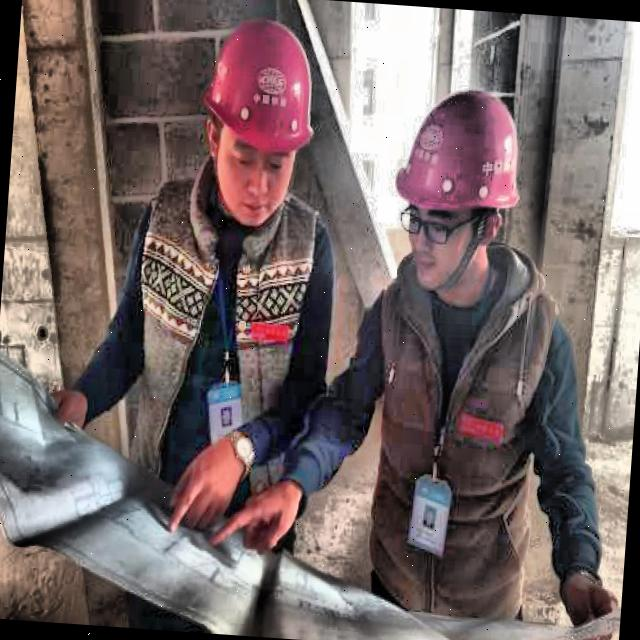helmet: (378, 63, 536, 301), (183, 8, 326, 231)
